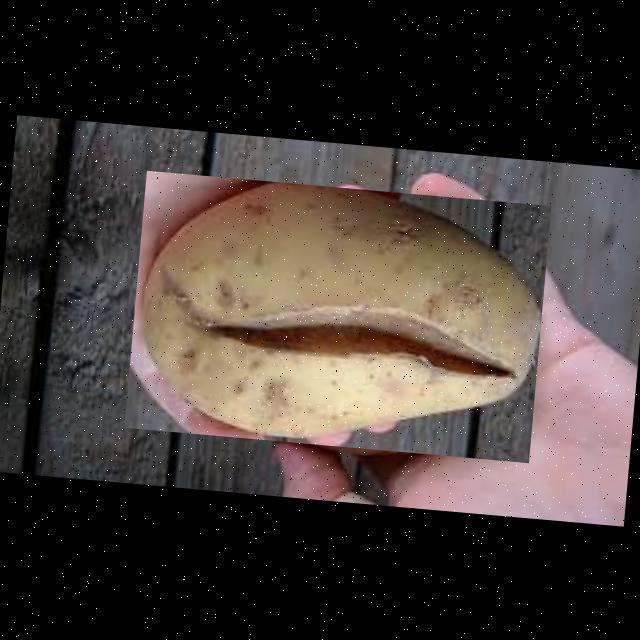Defected potato: (124, 170, 551, 462)
